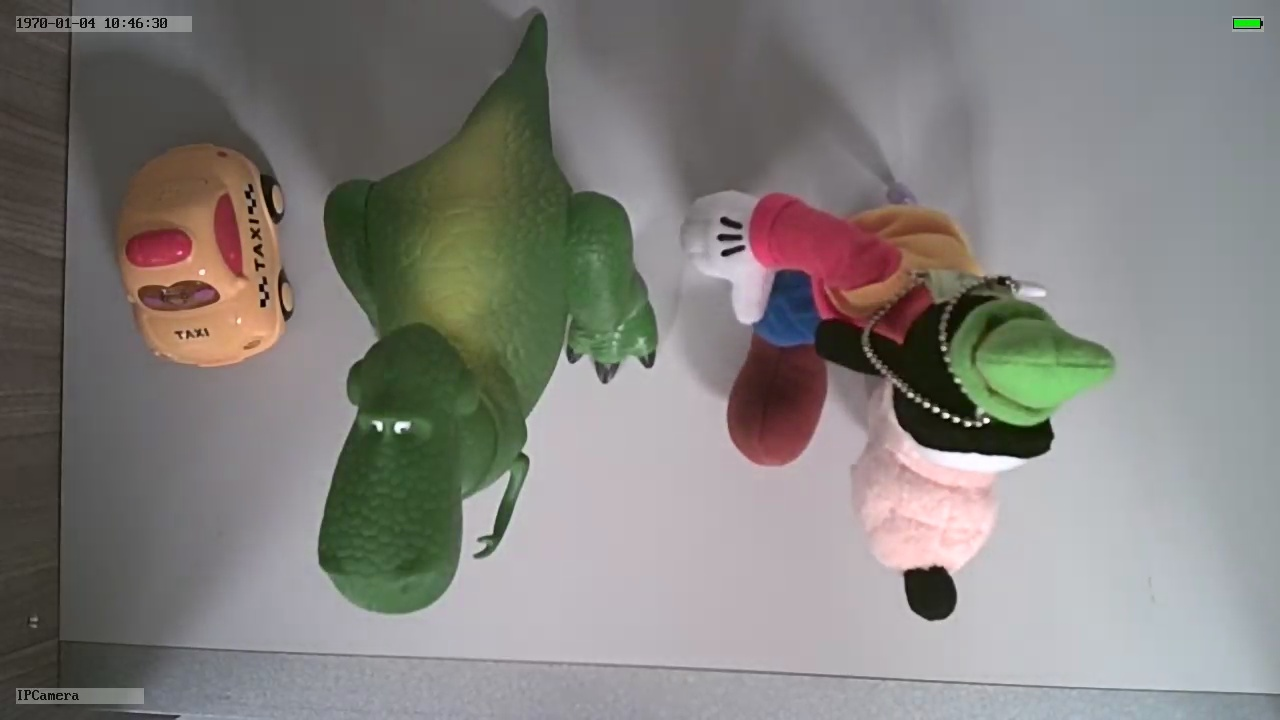car: (110, 135, 298, 369)
goofy: (671, 182, 1118, 622)
rex: (317, 103, 660, 620)
